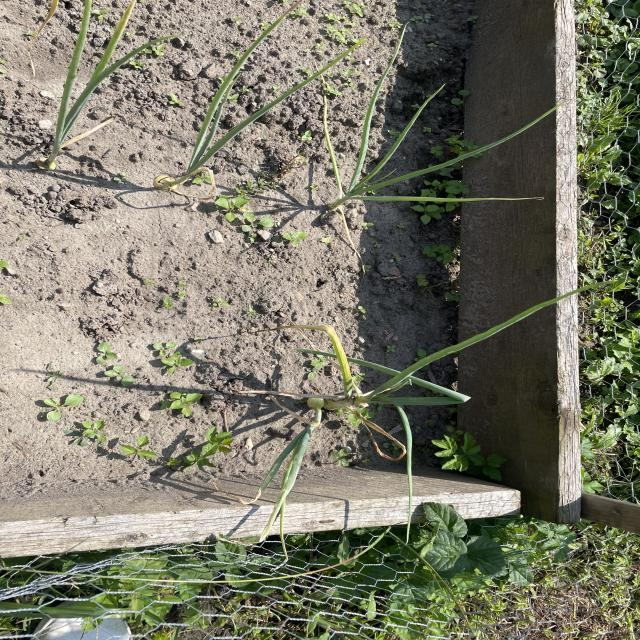Onion: (262, 328, 480, 491), (154, 20, 318, 184), (325, 76, 474, 217), (38, 8, 132, 170)
weed: (416, 126, 479, 230), (424, 431, 511, 488), (177, 428, 237, 475), (92, 340, 133, 389), (34, 391, 91, 425), (162, 383, 203, 424), (121, 432, 162, 470), (154, 338, 193, 376), (72, 420, 118, 448), (235, 212, 277, 240), (212, 196, 248, 222), (274, 227, 310, 252), (420, 243, 456, 263)
